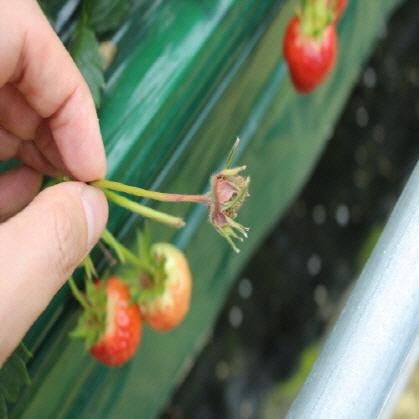Gray Mold: (208, 165, 251, 253)
